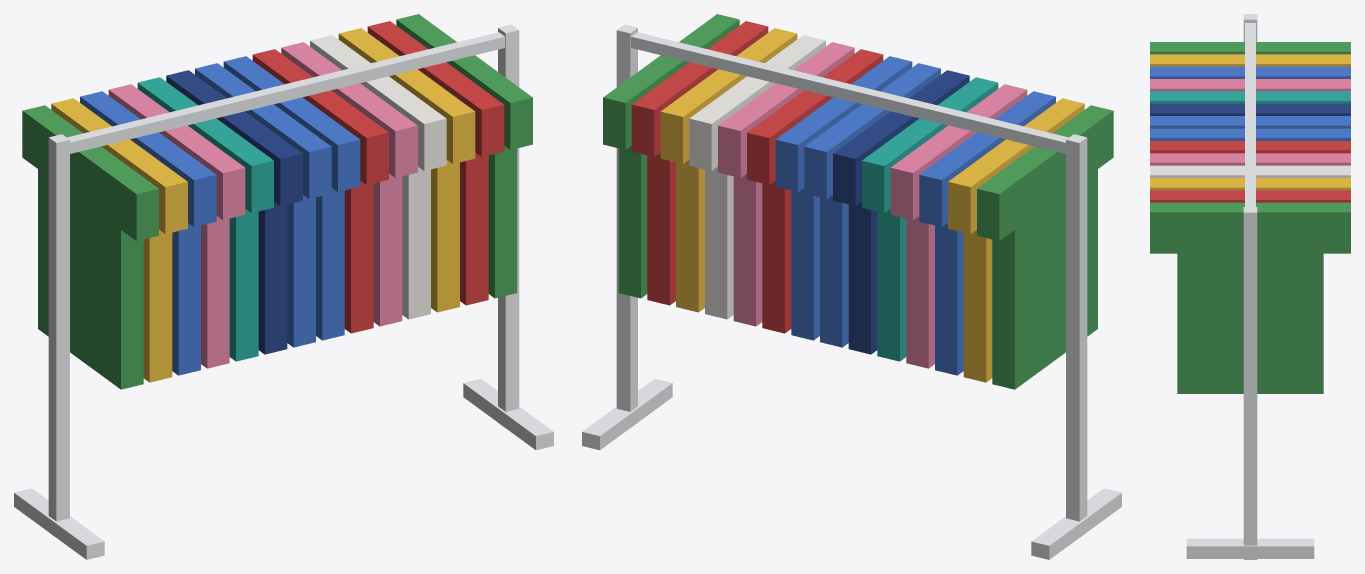
The model's file is ClothingRack.fbx.
3 renders of one model, left to right at view 1: azimuth 30°, elevation 25°; view 2: azimuth 150°, elevation 25°; view 3: azimuth 270°, elevation 25°, orthographic. The views are drawn at different scales.
Parts seen in each view (by area): view 1: ClothingRack; view 2: ClothingRack; view 3: ClothingRack.
Part boxes in pixels (x1,y1,x2,y2): ClothingRack: [14, 14, 553, 559]; ClothingRack: [582, 14, 1121, 559]; ClothingRack: [1150, 14, 1350, 559].
Size of the model in its own units: 5.2 by 4.2 by 2.2.
1 material, 1 textured.
